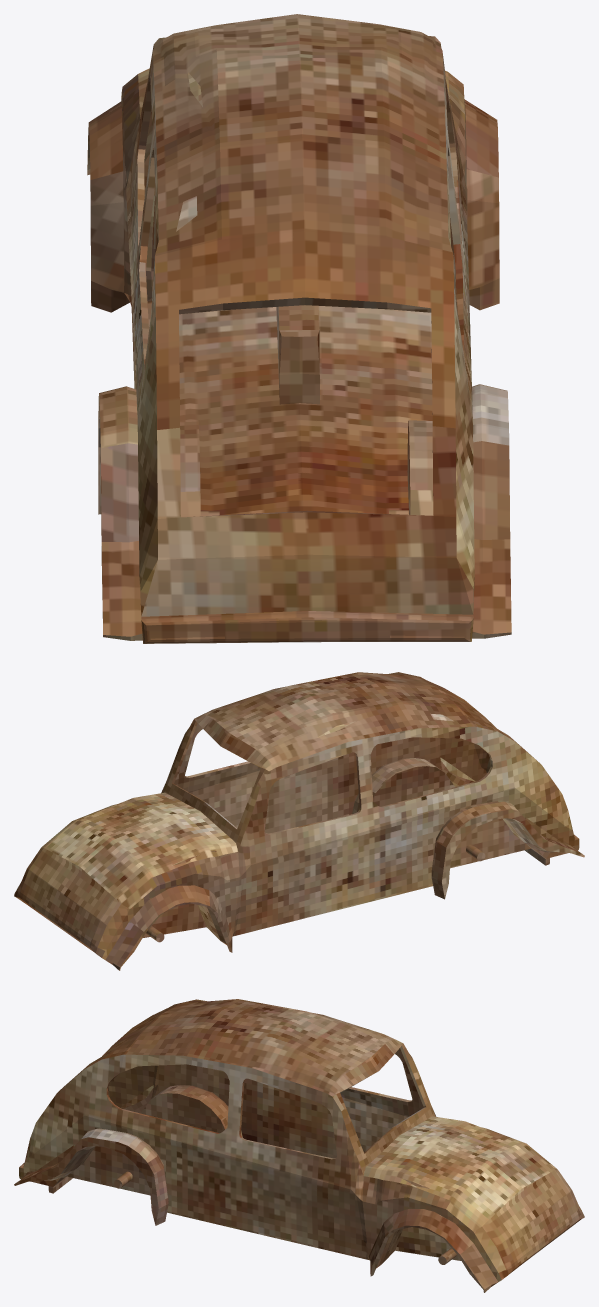
The model's file is car.glb.
3 views of the same model, one above another, from view 1: azimuth 30°, elevation 25°; view 2: azimuth 150°, elevation 25°; view 3: azimuth 270°, elevation 25° (orthographic). The views are drawn at different scales.
Parts seen in each view (by area): view 1: car; view 2: car; view 3: car.
Boxes of the visible parts, <box> form: car: <box>87,14,511,643</box>; car: <box>14,672,584,970</box>; car: <box>14,999,584,1292</box>.
Size of the model in its own units: 3.07 by 1.44 by 3.98.
1 material, 1 textured.
